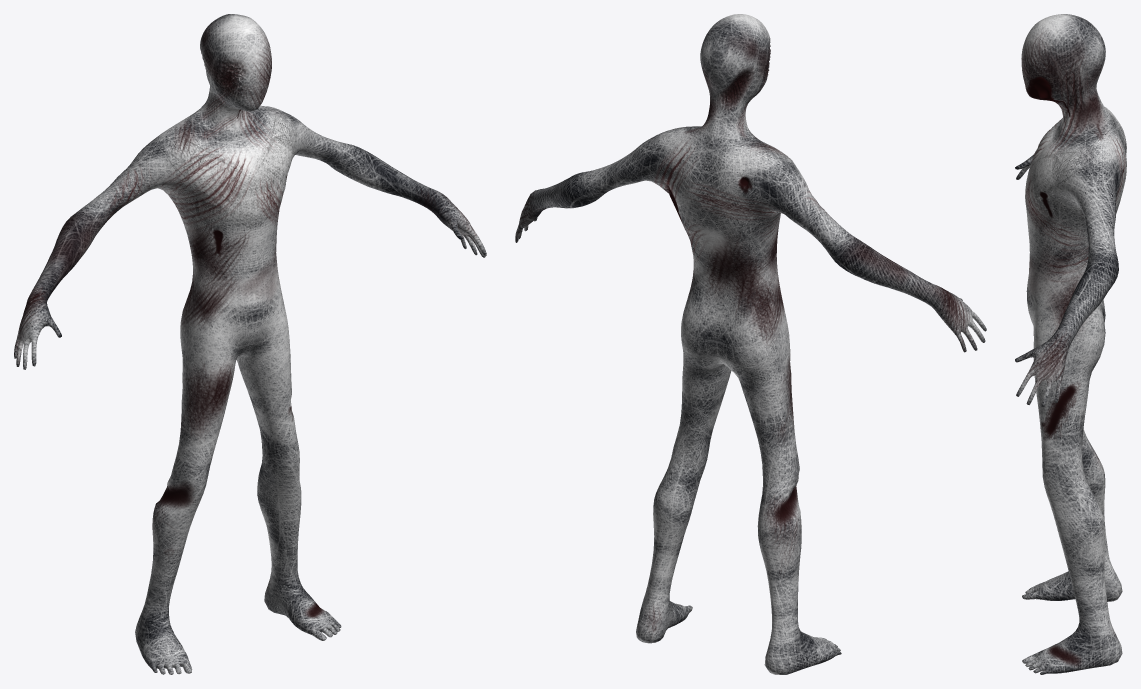
Rendered from zombie_creature_infected.obj.
3 renders of one model, left to right at view 1: azimuth 30°, elevation 25°; view 2: azimuth 150°, elevation 25°; view 3: azimuth 270°, elevation 25°, orthographic.
Visible parts, largest first — view 1: obj1; view 2: obj1; view 3: obj1.
Boxes of the visible parts, x1=… form: obj1: x1=14, y1=14, x2=486, y2=674; obj1: x1=515, y1=14, x2=986, y2=674; obj1: x1=1015, y1=14, x2=1126, y2=674.
Size of the model in its own units: 1.38 by 1.79 by 0.2956.
1 material, 1 textured.
